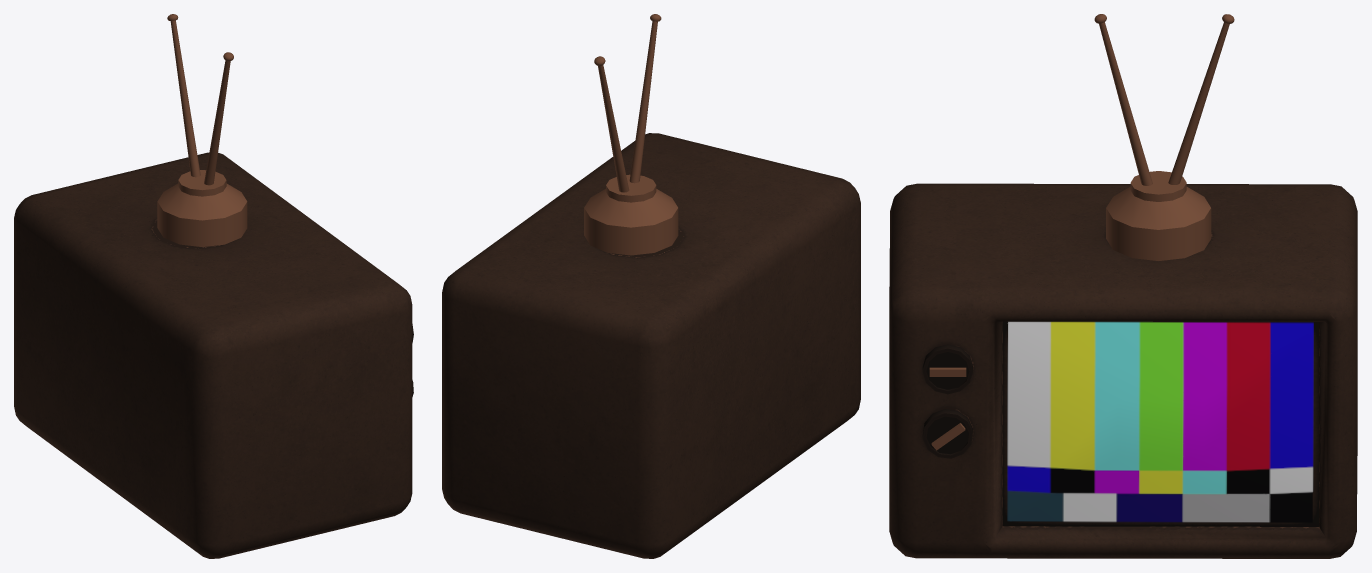
3 views of the same model, side by side, from view 1: azimuth 30°, elevation 25°; view 2: azimuth 150°, elevation 25°; view 3: azimuth 270°, elevation 25° (orthographic). The views are drawn at different scales.
Visible parts, largest first — view 1: television_Mesh; view 2: television_Mesh; view 3: television_Mesh.
Boxes of the visible parts, left/top/right/bottom form: television_Mesh: left=14, top=14, right=413, bottom=558; television_Mesh: left=442, top=14, right=860, bottom=558; television_Mesh: left=889, top=14, right=1357, bottom=558.
Size of the model in its own units: 0.5365 by 0.965 by 0.828.
1 material, 1 textured.
